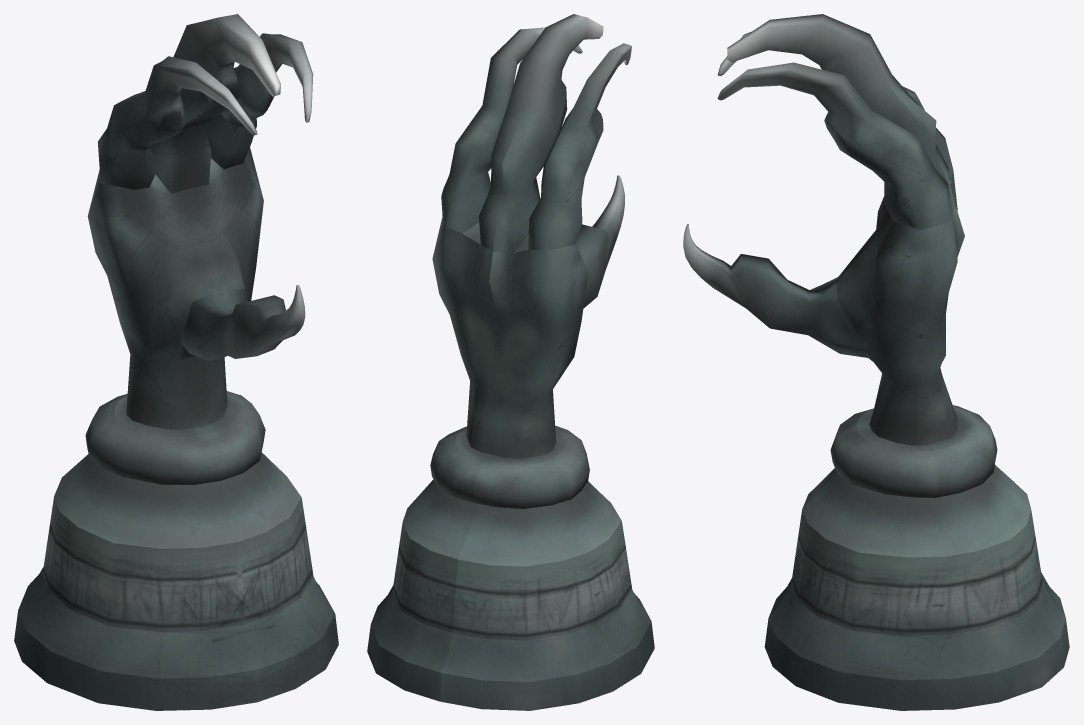
File: Garra_Texturizada.fbx
3 renders of one model, left to right at view 1: azimuth 30°, elevation 25°; view 2: azimuth 150°, elevation 25°; view 3: azimuth 270°, elevation 25°, orthographic. The views are drawn at different scales.
Parts seen in each view (by area): view 1: Garra; view 2: Garra; view 3: Garra.
Boxes of the visible parts, x1=… form: Garra: x1=14, y1=14, x2=338, y2=710; Garra: x1=367, y1=14, x2=654, y2=710; Garra: x1=683, y1=14, x2=1069, y2=710.
Bounding box in the file's own units: 5.98 × 13.74 × 7.66.
